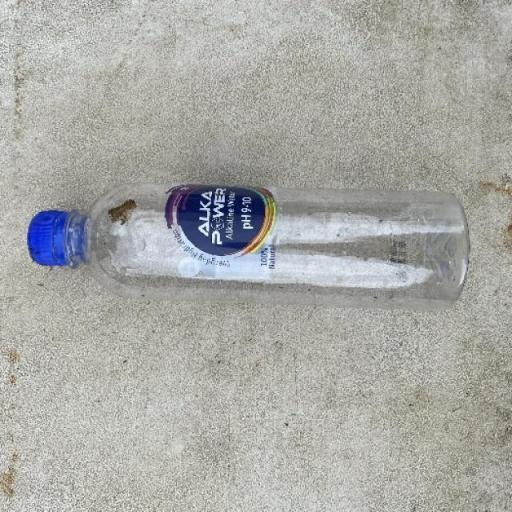plastic: (26, 180, 470, 311)
